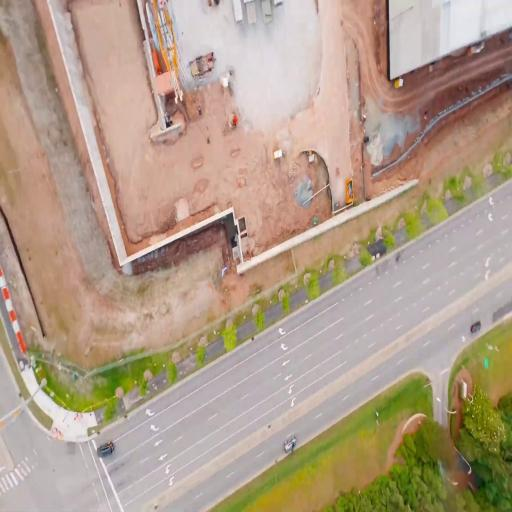uav: (221, 264, 228, 278)
